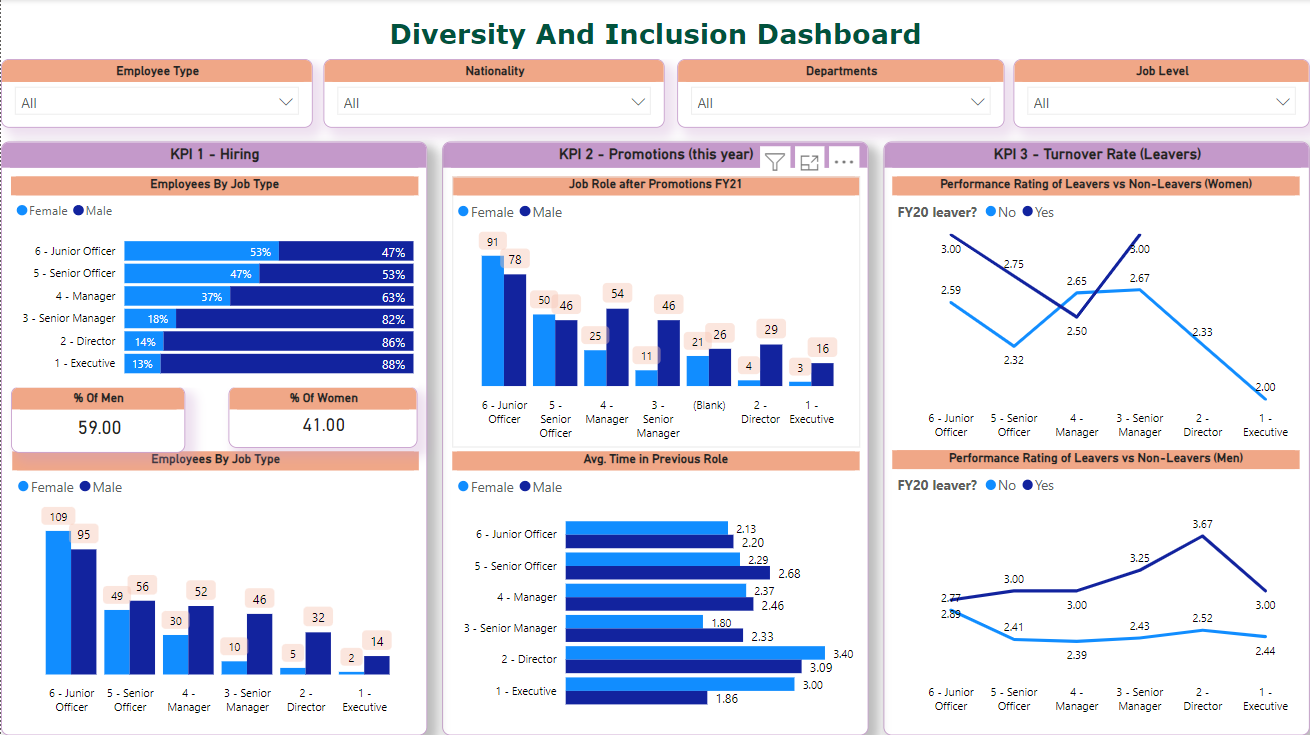

The page's visual inventory and layout, read from the dashboard file:
{"tool":"powerbi","page":{"name":"Page 1","canvas":[1280,720],"ordinal":0},"visuals":[{"type":"textbox","title":"KPI 3 - Turnover Rate (Leavers)","box":[863.5,139.2,416.5,580.8],"z":0},{"type":"textbox","title":"KPI 2 - Promotions (this year)","box":[431.8,139.2,416.5,580.8],"z":1},{"type":"textbox","title":"KPI 1 - Hiring","box":[0,139.3,416.6,580.7],"z":2},{"type":"lineClusteredColumnComboChart","title":"Employees By Job Type","fields":{"Category":["Pharma Group AG.Job Level after FY20 promotions"],"Series":["Pharma Group AG.Gender"],"Y":["Pharma Group AG.Employee ID"]},"box":[10.5,442.2,398,265.3],"z":3},{"type":"lineClusteredColumnComboChart","title":"Job Role after Promotions FY21","fields":{"Series":["Pharma Group AG.Gender"],"Y":["Pharma Group AG.Employee ID"],"Category":["Pharma Group AG.Job Level after FY21 promotions"]},"box":[441.5,174.1,398.3,264.6],"z":4},{"type":"clusteredBarChart","title":"Avg. Time in Previous Role ","fields":{"Series":["Pharma Group AG.Gender"],"Y":["Pharma Group AG.Time in Job Level @01.07.2020"],"Category":["Pharma Group AG.Job Level after FY20 promotions"]},"box":[441.5,442.7,398.3,265.1],"z":5},{"type":"lineChart","title":"Performance Rating of Leavers vs Non-Leavers (Women) ","fields":{"Category":["Pharma Group AG.Job Level after FY20 promotions"],"Y":["Pharma Group AG.FY19 Performance Rating"],"Series":["Pharma Group AG.FY20 leaver?"]},"box":[872.1,173.9,398.3,265.1],"z":6},{"type":"lineChart","title":"Performance Rating of Leavers vs Non-Leavers (Men) ","fields":{"Category":["Pharma Group AG.Job Level after FY20 promotions"],"Y":["Pharma Group AG.FY19 Performance Rating"],"Series":["Pharma Group AG.FY20 leaver?"]},"box":[872.1,441.5,398.3,265.1],"z":7},{"type":"slicer","title":"Employee Type","fields":{"Values":["Pharma Group AG.Time type","Pharma Group AG.FTE group"]},"box":[0,58.2,304.9,67.5],"z":9},{"type":"slicer","title":"Nationality","fields":{"Values":["Pharma Group AG.Nationality 1"]},"box":[315.3,58.2,334,67.5],"z":10},{"type":"slicer","title":"Departments","fields":{"Values":["Pharma Group AG.Department @01.07.2020"]},"box":[660.9,58.2,320,67.5],"z":11},{"type":"slicer","title":"Job Level","fields":{"Values":["Pharma Group AG.Job Level after FY20 promotions"]},"box":[990.3,58.2,289.7,67.5],"z":12},{"type":"card","title":"# Of Men","fields":{"Values":["Backing 1.NofMen"]},"box":[9.6,378.4,170,64.4],"z":13},{"type":"card","title":"# Of Women","fields":{"Values":["Backing 1.NofWomen"]},"box":[222.1,378.4,185.1,60.3],"z":14},{"type":"hundredPercentStackedBarChart","title":"Employees By Job Type","fields":{"Category":["Pharma Group AG.Job Level after FY20 promotions"],"Series":["Pharma Group AG.Gender"],"Y":["Pharma Group AG.Employee ID"]},"box":[9.6,173.9,398.3,206.3],"z":15},{"type":"clusteredBarChart","title":"Avg. Time in Previous Role ","fields":{"Series":["Pharma Group AG.Gender"],"Y":["Pharma Group AG.Time in Job Level @01.07.2020"],"Category":["Pharma Group AG.Job Level after FY20 promotions"]},"box":[451.5,452.7,398.3,265.1],"z":16},{"type":"textbox","box":[0,12.2,1279.9,46.5],"z":17}]}

Visuals, with their boxes in screenshot pixels (x1, y1, x2, y2), scaled from the page's 1280x720 canvas onto the 1310x735 screenshot:
"KPI 3 - Turnover Rate (Leavers)" textbox: BBox(884, 142, 1309, 734)
"KPI 2 - Promotions (this year)" textbox: BBox(442, 142, 868, 734)
"KPI 1 - Hiring" textbox: BBox(0, 142, 426, 734)
"Employees By Job Type" lineClusteredColumnComboChart: BBox(11, 451, 418, 722)
"Job Role after Promotions FY21" lineClusteredColumnComboChart: BBox(452, 178, 859, 448)
"Avg. Time in Previous Role " clusteredBarChart: BBox(452, 452, 859, 723)
"Performance Rating of Leavers vs Non-Leavers (Women) " lineChart: BBox(893, 178, 1300, 448)
"Performance Rating of Leavers vs Non-Leavers (Men) " lineChart: BBox(893, 451, 1300, 721)
"Employee Type" slicer: BBox(0, 59, 312, 128)
"Nationality" slicer: BBox(323, 59, 665, 128)
"Departments" slicer: BBox(676, 59, 1004, 128)
"Job Level" slicer: BBox(1014, 59, 1309, 128)
"# Of Men" card: BBox(10, 386, 184, 452)
"# Of Women" card: BBox(227, 386, 417, 448)
"Employees By Job Type" hundredPercentStackedBarChart: BBox(10, 178, 417, 388)
"Avg. Time in Previous Role " clusteredBarChart: BBox(462, 462, 870, 733)
textbox: BBox(0, 12, 1309, 60)
